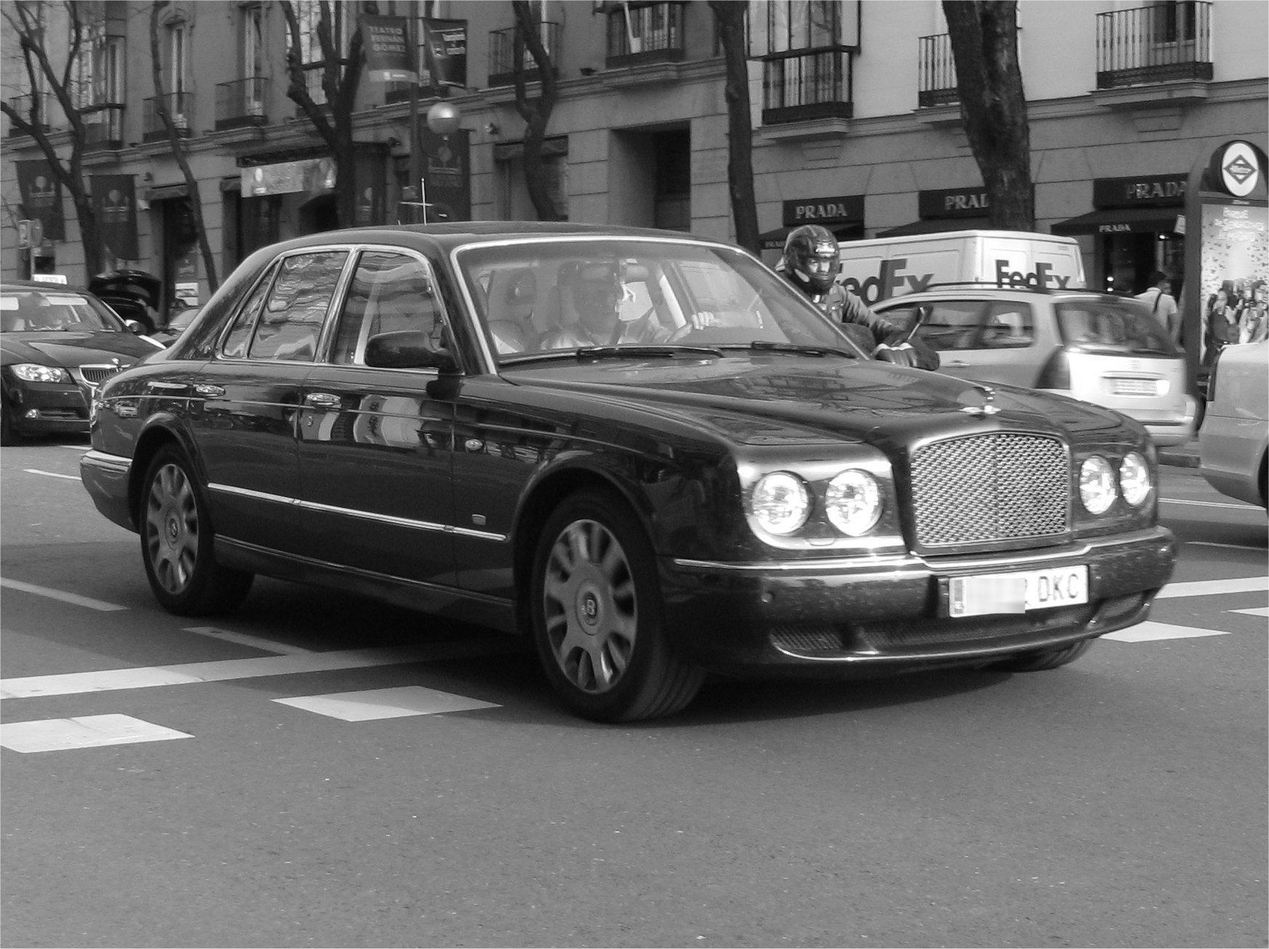car: (81, 217, 1170, 729)
